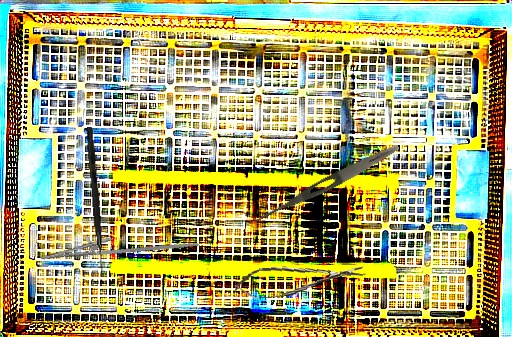Dressing Forceps: (250, 140, 402, 230)
Hook Surgical: (84, 126, 108, 278)
Micro Scissor: (232, 259, 368, 301)
Needle Holder: (38, 212, 199, 279)
